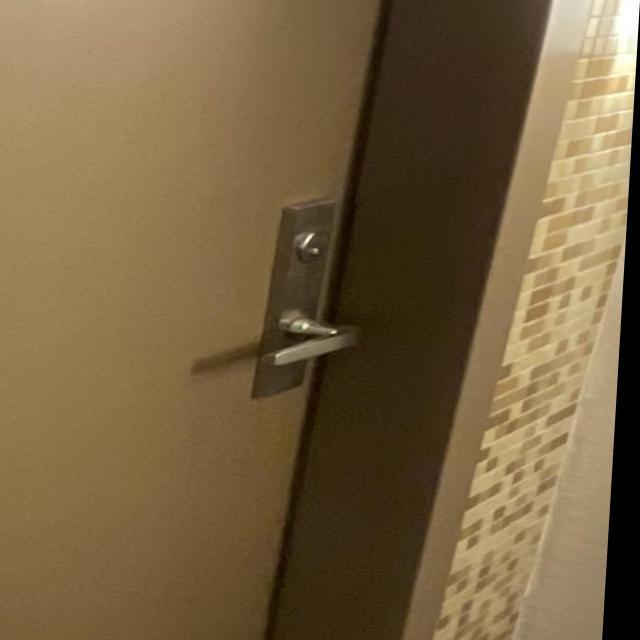door_handle: (255, 307, 388, 377)
